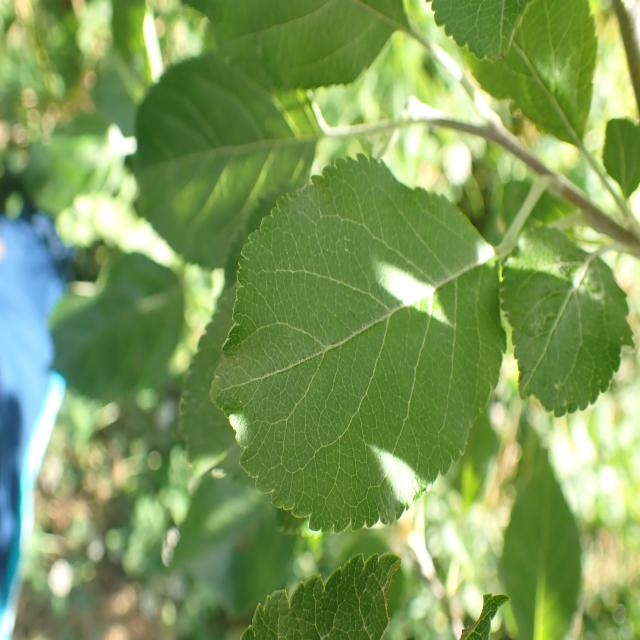healthy: (209, 151, 508, 534), (124, 53, 320, 271), (498, 227, 636, 419), (429, 0, 598, 149), (181, 0, 410, 92), (242, 550, 402, 640), (426, 0, 530, 62)
